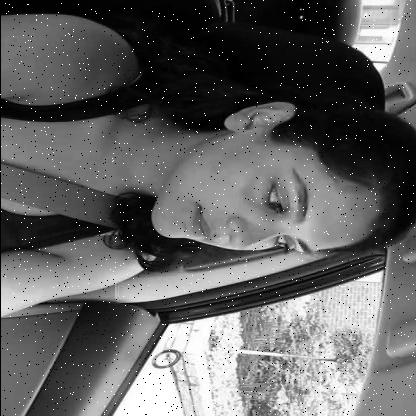seatbelt: (0, 73, 416, 286)
